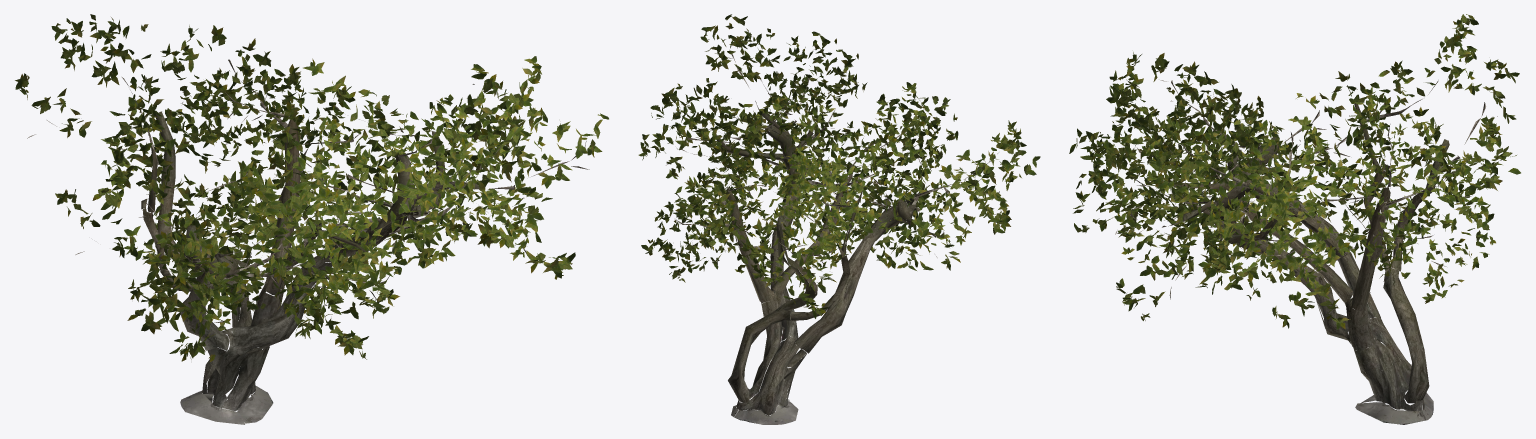
Rendered from veg-tree-shade-b-lod0-4ca9873cd847.glb.
3 views of the same model, side by side, from view 1: azimuth 30°, elevation 25°; view 2: azimuth 150°, elevation 25°; view 3: azimuth 270°, elevation 25° (orthographic). The views are drawn at different scales.
Parts seen in each view (by area): view 1: veg-tree-shade-b_lod0; view 2: veg-tree-shade-b_lod0; view 3: veg-tree-shade-b_lod0.
Part boxes in pixels (bbox=[...]): veg-tree-shade-b_lod0: bbox=[15, 14, 608, 424]; veg-tree-shade-b_lod0: bbox=[638, 14, 1040, 424]; veg-tree-shade-b_lod0: bbox=[1069, 14, 1520, 424].
Bounding box in the file's own units: 6.15 × 5.4 × 6.46.
Materials: 3 (3 with a texture image).
